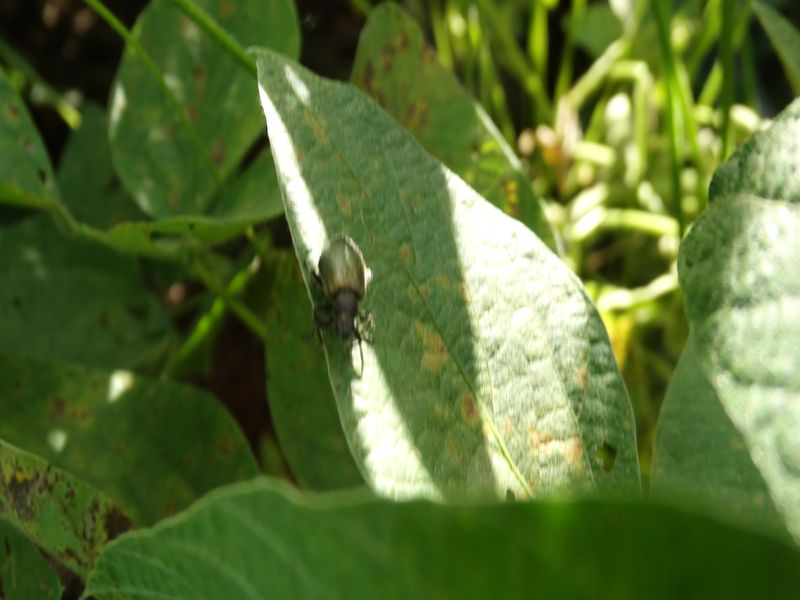Lagria_villosa: (279, 216, 400, 375)
